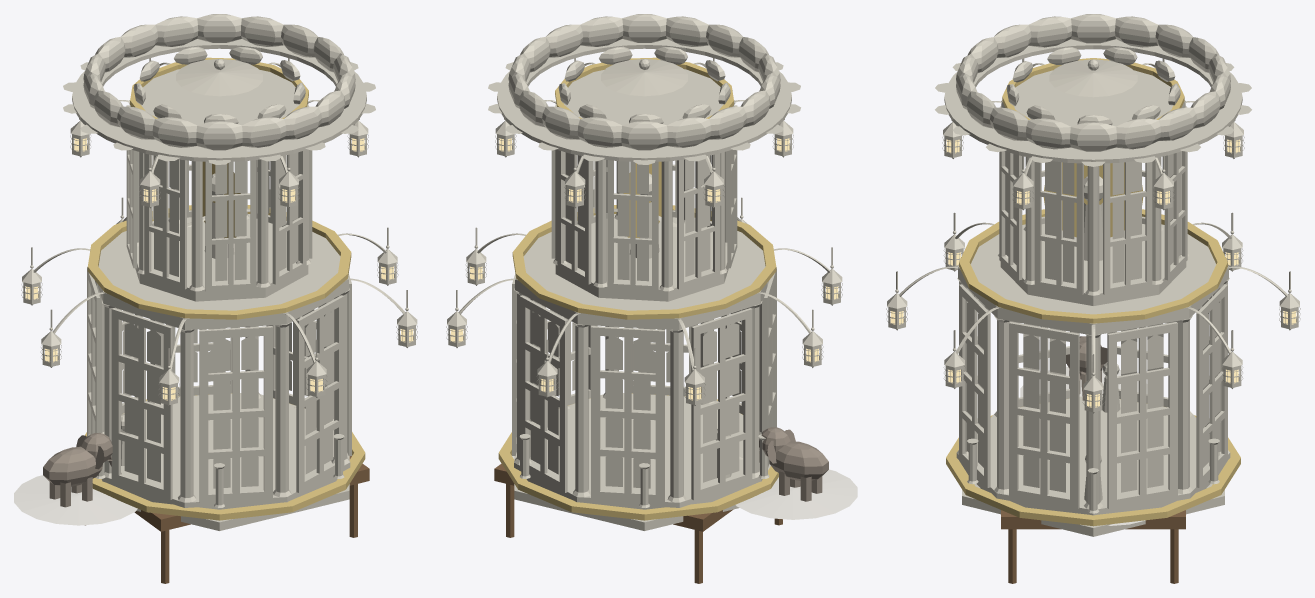
Rendered from lantern.glb.
3 views of the same model, side by side, from view 1: azimuth 30°, elevation 25°; view 2: azimuth 150°, elevation 25°; view 3: azimuth 270°, elevation 25° (orthographic).
Visible parts, largest first — view 1: Canopy, Pan1_5, Pan1_4, Sep1, Pan1_6, BaseRing, Pan2_5, Pan2_4, Sep2, Rail1, Sep1B, BaseRail (+29 smaller); view 2: Canopy, Pan1_2, Pan1_3, Sep1, Pan1_1, BaseRing, Pan2_2, Pan2_3, Sep2, Rail1, Sep1B, BaseRail (+30 smaller); view 3: Canopy, Pan1_0, Pan1_7, Sep1, BaseRing, Pan2_0, Pan2_7, Pan1_1, Pan1_6, Sep2, Rail1, BaseRail (+22 smaller).
Part boxes in pixels (left/top/right/bottom): Canopy: left=63, top=14, right=375, bottom=164; Pan1_5: left=199, top=326, right=272, bottom=503; Pan1_4: left=111, top=308, right=172, bottom=499; Sep1: left=90, top=214, right=348, bottom=330; Pan1_6: left=296, top=295, right=344, bottom=492; BaseRing: left=101, top=393, right=350, bottom=509; Pan2_5: left=205, top=160, right=256, bottom=291; Pan2_4: left=144, top=153, right=186, bottom=289; Sep2: left=141, top=69, right=299, bottom=125; Rail1: left=87, top=205, right=351, bottom=319; Sep1B: left=135, top=217, right=308, bottom=301; BaseRail: left=84, top=393, right=365, bottom=520; Canopy: left=488, top=14, right=800, bottom=164; Pan1_2: left=591, top=326, right=664, bottom=503; Pan1_3: left=691, top=308, right=752, bottom=500; Sep1: left=515, top=214, right=773, bottom=329; Pan1_1: left=520, top=295, right=567, bottom=492; BaseRing: left=514, top=393, right=762, bottom=509; Pan2_2: left=607, top=160, right=658, bottom=291; Pan2_3: left=677, top=153, right=719, bottom=289; Sep2: left=564, top=69, right=732, bottom=125; Rail1: left=512, top=205, right=776, bottom=319; Sep1B: left=555, top=217, right=728, bottom=301; BaseRail: left=498, top=393, right=778, bottom=520; Canopy: left=935, top=14, right=1251, bottom=166; Pan1_0: left=1107, top=322, right=1177, bottom=508; Pan1_7: left=1009, top=322, right=1079, bottom=508; Sep1: left=958, top=224, right=1228, bottom=335; BaseRing: left=956, top=396, right=1230, bottom=515; Pan2_0: left=1103, top=161, right=1152, bottom=294; Pan2_7: left=1034, top=161, right=1083, bottom=294; Pan1_1: left=1196, top=284, right=1227, bottom=487; Pan1_6: left=959, top=284, right=990, bottom=487; Sep2: left=1001, top=70, right=1185, bottom=126; Rail1: left=959, top=209, right=1227, bottom=323; BaseRail: left=946, top=398, right=1240, bottom=526.
Bounding box in the file's own units: 4.55 × 5.38 × 4.25.
